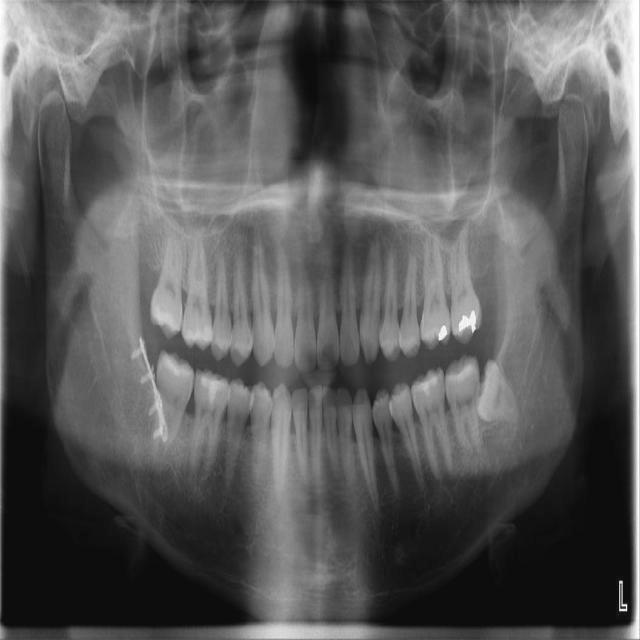Filling: (459, 309, 476, 334), (439, 325, 448, 341)
impacted tooth: (475, 357, 524, 423)
